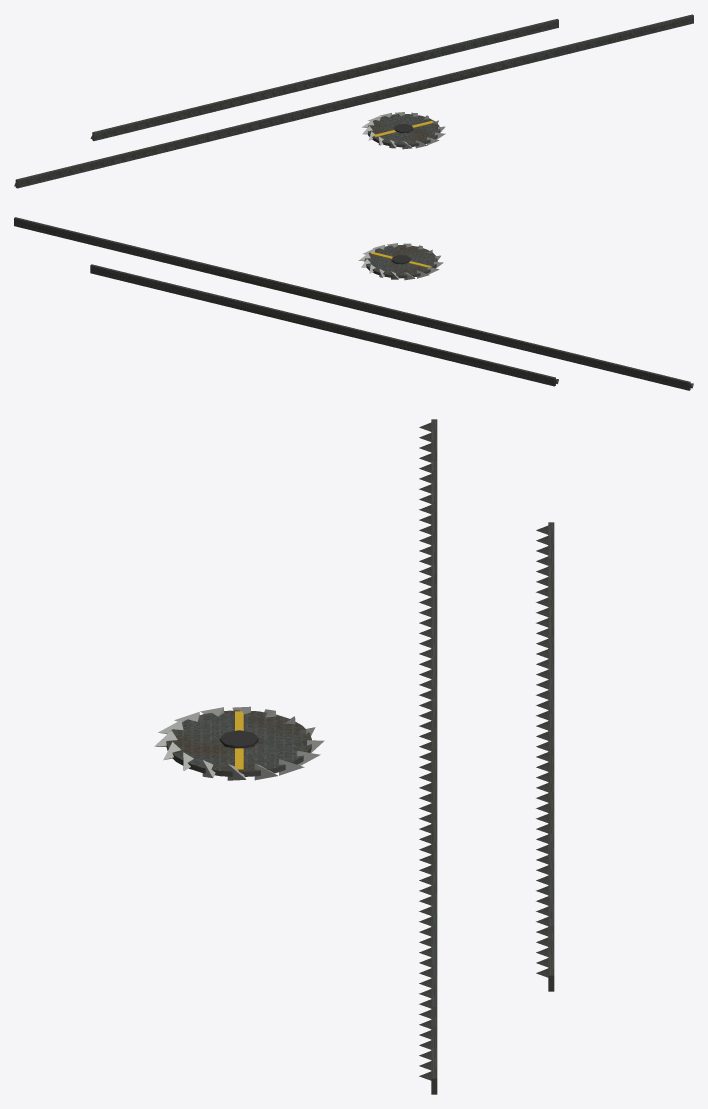
The model's file is sawblade.glb.
The picture shows the model from 3 angles, top to bottom: view 1: azimuth 30°, elevation 25°; view 2: azimuth 150°, elevation 25°; view 3: azimuth 270°, elevation 25°; orthographic projection. The views are drawn at different scales.
Parts seen in each view (by area): view 1: hacksaw_16, hacksaw_11, blade; view 2: hacksaw_16, hacksaw_11, blade; view 3: blade, hacksaw_16, hacksaw_11.
Part boxes in pixels (left/top/right/bottom): hacksaw_16: left=14, top=14, right=693, bottom=188; hacksaw_11: left=90, top=19, right=558, bottom=140; blade: left=362, top=112, right=445, bottom=149; hacksaw_16: left=14, top=217, right=693, bottom=390; hacksaw_11: left=90, top=264, right=558, bottom=386; blade: left=358, top=243, right=443, bottom=280; blade: left=154, top=706, right=324, bottom=780; hacksaw_16: left=419, top=419, right=437, bottom=1094; hacksaw_11: left=536, top=522, right=554, bottom=991.
Bounding box in the file's own units: 16.06 × 0.3353 × 4.11.
5 materials, 2 textured.
